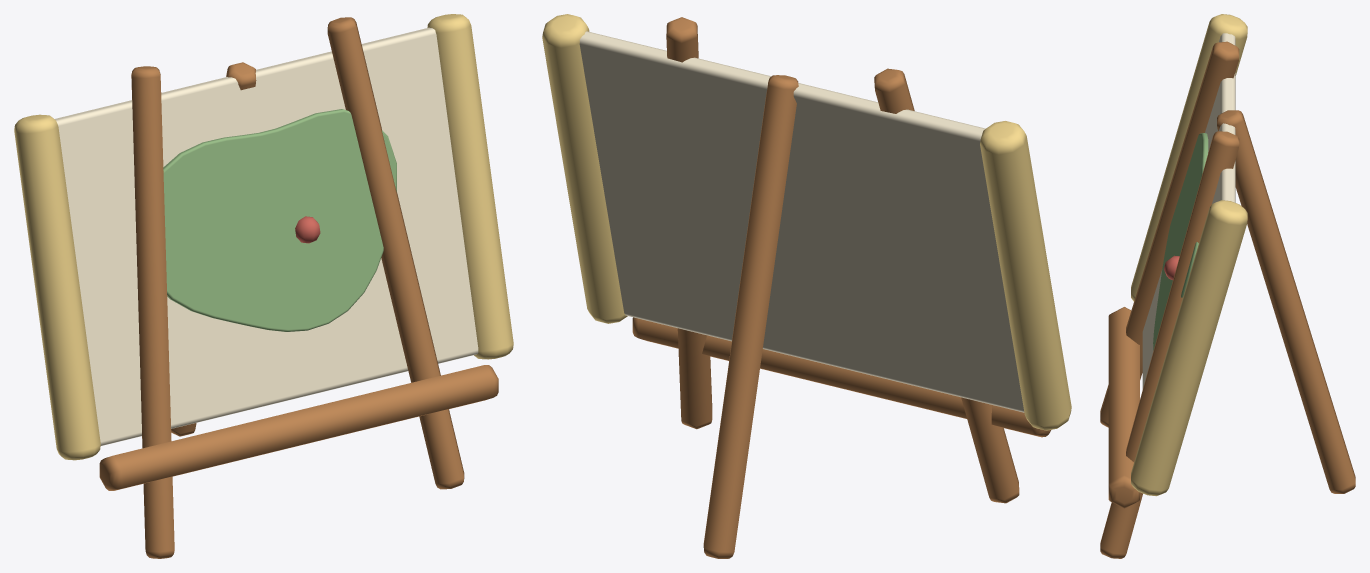
File: map_on_easel.glb
The picture shows the model from 3 angles, left to right: view 1: azimuth 30°, elevation 25°; view 2: azimuth 150°, elevation 25°; view 3: azimuth 270°, elevation 25°; orthographic projection. The views are drawn at different scales.
Visible parts, largest first — view 1: map_on_easel_mesh; view 2: map_on_easel_mesh; view 3: map_on_easel_mesh.
Boxes of the visible parts, x1=… form: map_on_easel_mesh: x1=14, y1=14, x2=513, y2=558; map_on_easel_mesh: x1=542, y1=14, x2=1071, y2=558; map_on_easel_mesh: x1=1100, y1=14, x2=1355, y2=558.
Bounding box in the file's own units: 0.372 × 0.3434 × 0.1971.
